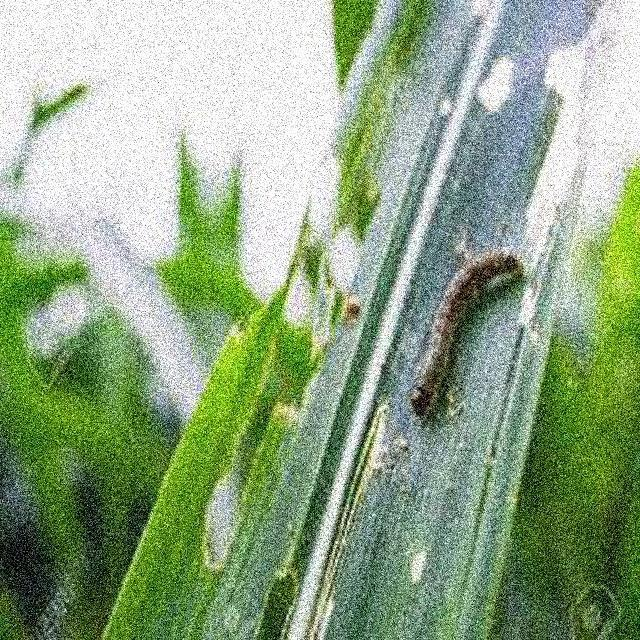Plaga: (408, 246, 525, 423)
